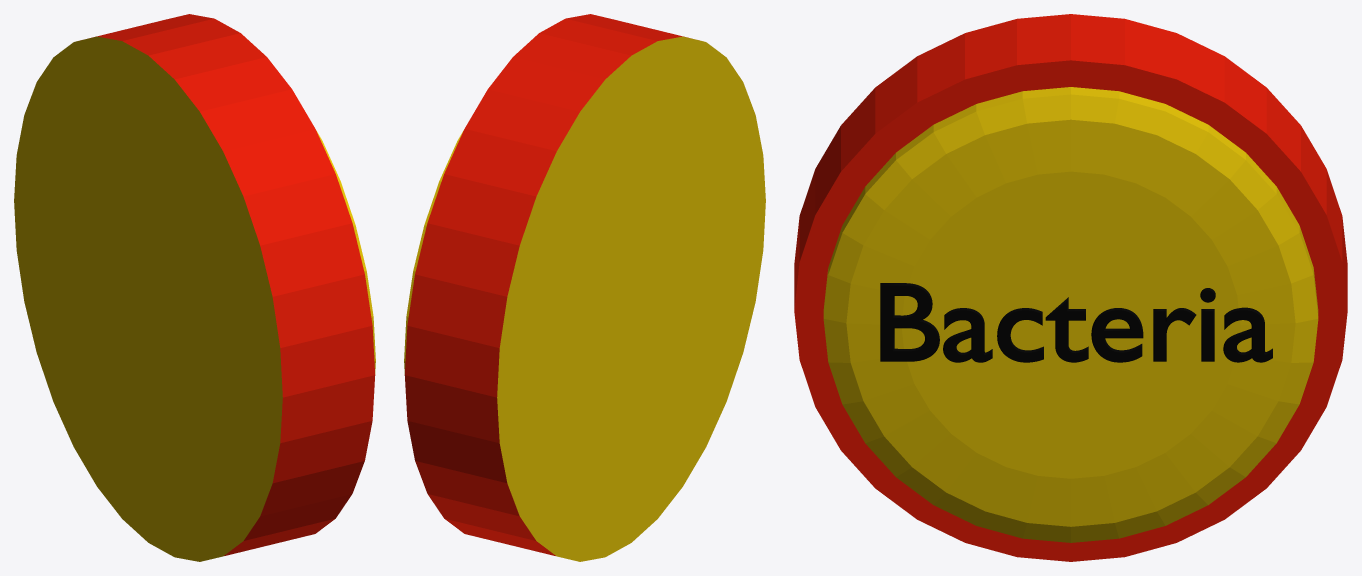
File: bacteria button.gltf
The picture shows the model from 3 angles, left to right: view 1: azimuth 30°, elevation 25°; view 2: azimuth 150°, elevation 25°; view 3: azimuth 270°, elevation 25°; orthographic projection. The views are drawn at different scales.
Visible parts, largest first — view 1: Cylinder.001; view 2: Cylinder.001; view 3: Cylinder.001, Text.
Part boxes in pixels (<box>): Cylinder.001: <box>14,14,375,561</box>; Cylinder.001: <box>404,14,765,561</box>; Cylinder.001: <box>794,14,1347,561</box>; Text: <box>880,283,1272,362</box>.
Bounding box in the file's own units: 0.527 × 2 × 2.
